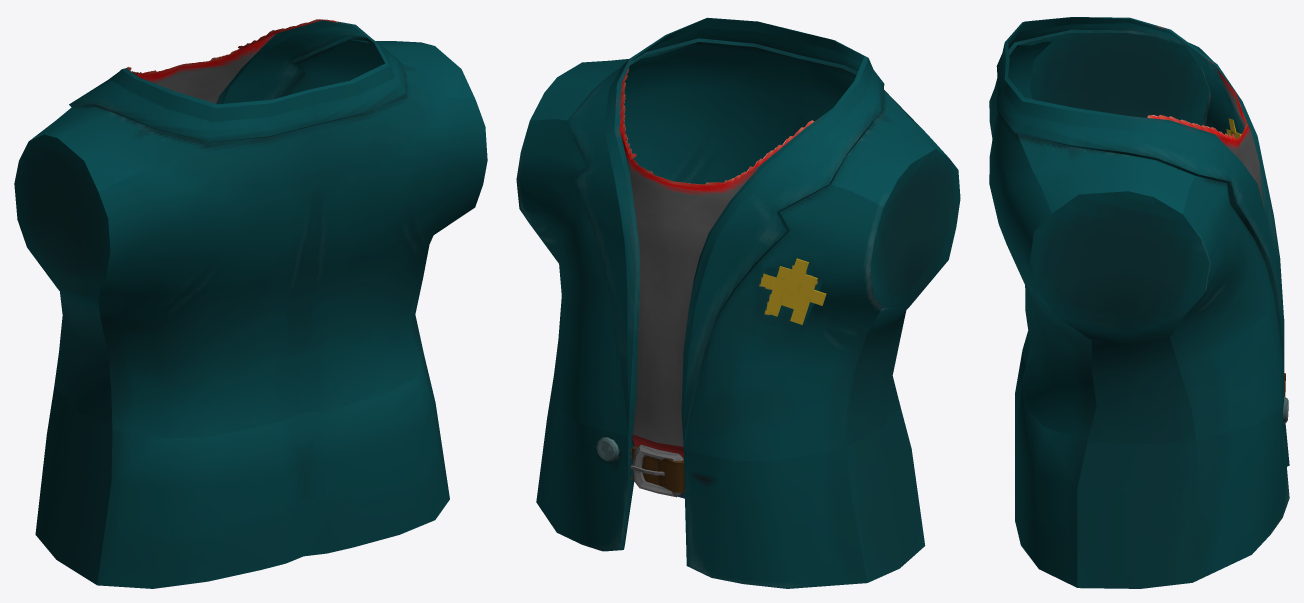
3 renders of one model, left to right at view 1: azimuth 30°, elevation 25°; view 2: azimuth 150°, elevation 25°; view 3: azimuth 270°, elevation 25°, orthographic. The views are drawn at different scales.
Visible parts, largest first — view 1: Mesh; view 2: Mesh; view 3: Mesh.
Part boxes in pixels (x1,y1,x2,y2): Mesh: (14, 19, 487, 588); Mesh: (516, 17, 960, 588); Mesh: (989, 17, 1289, 588).
Size of the model in its own units: 1.92 by 2.37 by 1.41.
